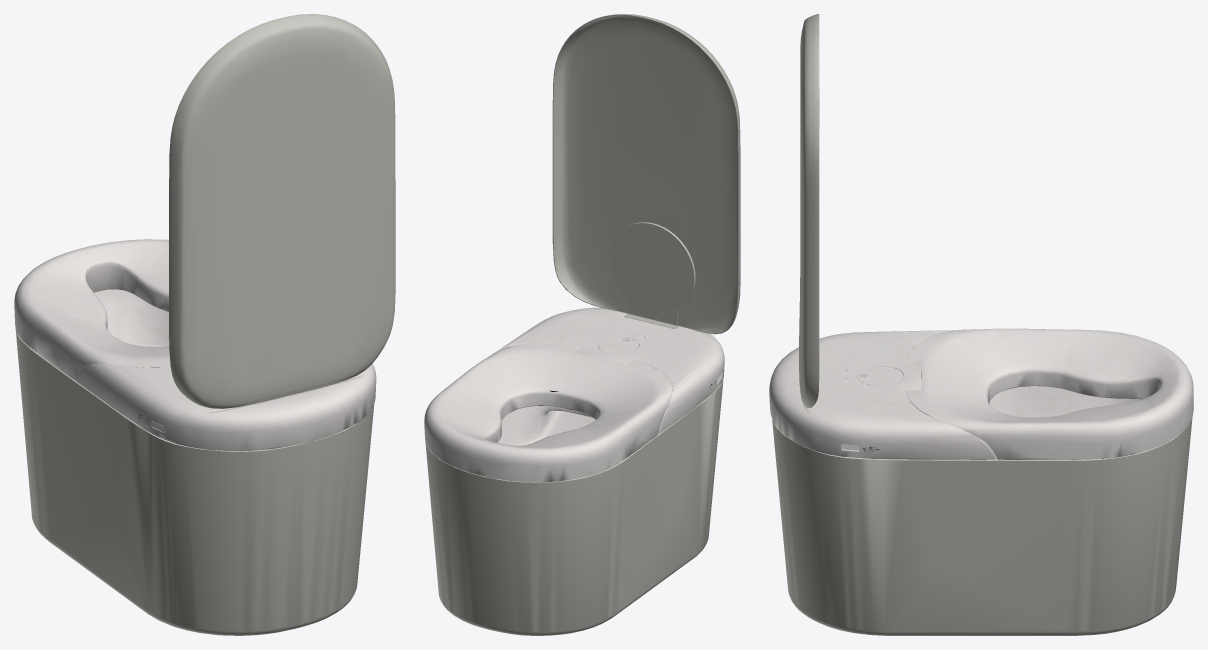
Rendered from toilet_a01.glb.
The picture shows the model from 3 angles, left to right: view 1: azimuth 30°, elevation 25°; view 2: azimuth 150°, elevation 25°; view 3: azimuth 270°, elevation 25°; orthographic projection. The views are drawn at different scales.
Parts seen in each view (by area): view 1: toilet_a01_lod1; view 2: toilet_a01_lod1; view 3: toilet_a01_lod1.
Boxes of the visible parts, left/top/right/bottom form: toilet_a01_lod1: left=14, top=14, right=395, bottom=635; toilet_a01_lod1: left=424, top=14, right=740, bottom=635; toilet_a01_lod1: left=769, top=14, right=1193, bottom=635.
Size of the model in its own units: 0.405 by 1.04 by 0.7055.
Materials: 1 (1 with a texture image).
